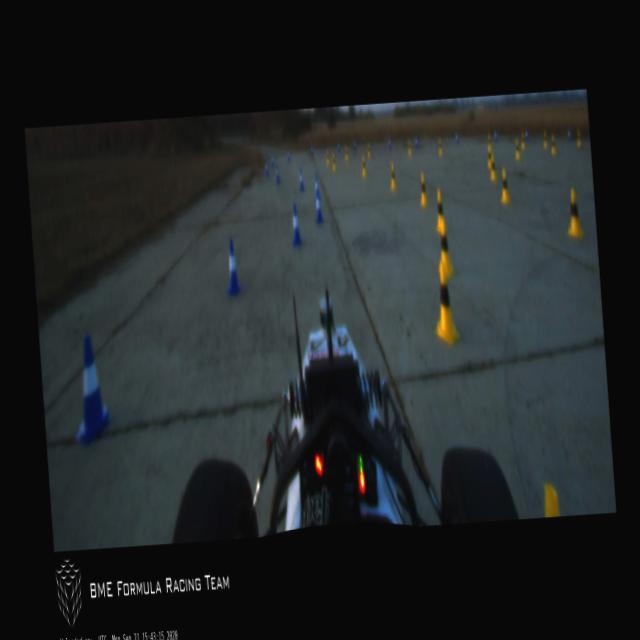blue_cone: (68, 334, 112, 444), (222, 238, 242, 296), (289, 204, 302, 245), (312, 190, 323, 223), (312, 175, 320, 200), (297, 168, 304, 192), (274, 164, 280, 183), (264, 160, 269, 176)
yellow_cone: (430, 264, 460, 344), (434, 218, 454, 278), (564, 185, 584, 238), (432, 190, 447, 232), (499, 168, 511, 203), (417, 172, 428, 207), (388, 164, 396, 190), (490, 156, 498, 182), (360, 154, 368, 177), (486, 143, 492, 168), (514, 138, 520, 160), (324, 148, 330, 165), (331, 152, 336, 171)
